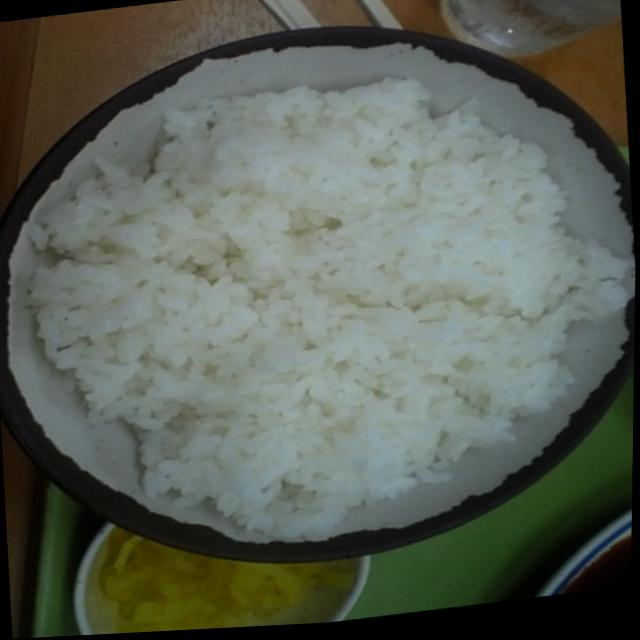米饭主食: (0, 26, 639, 555)
